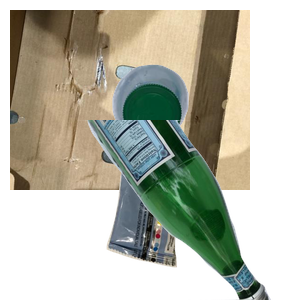cardboard: (10, 10, 250, 190)
glass: (75, 120, 300, 300)
plastic: (110, 62, 300, 198)
trash: (104, 152, 280, 300)
